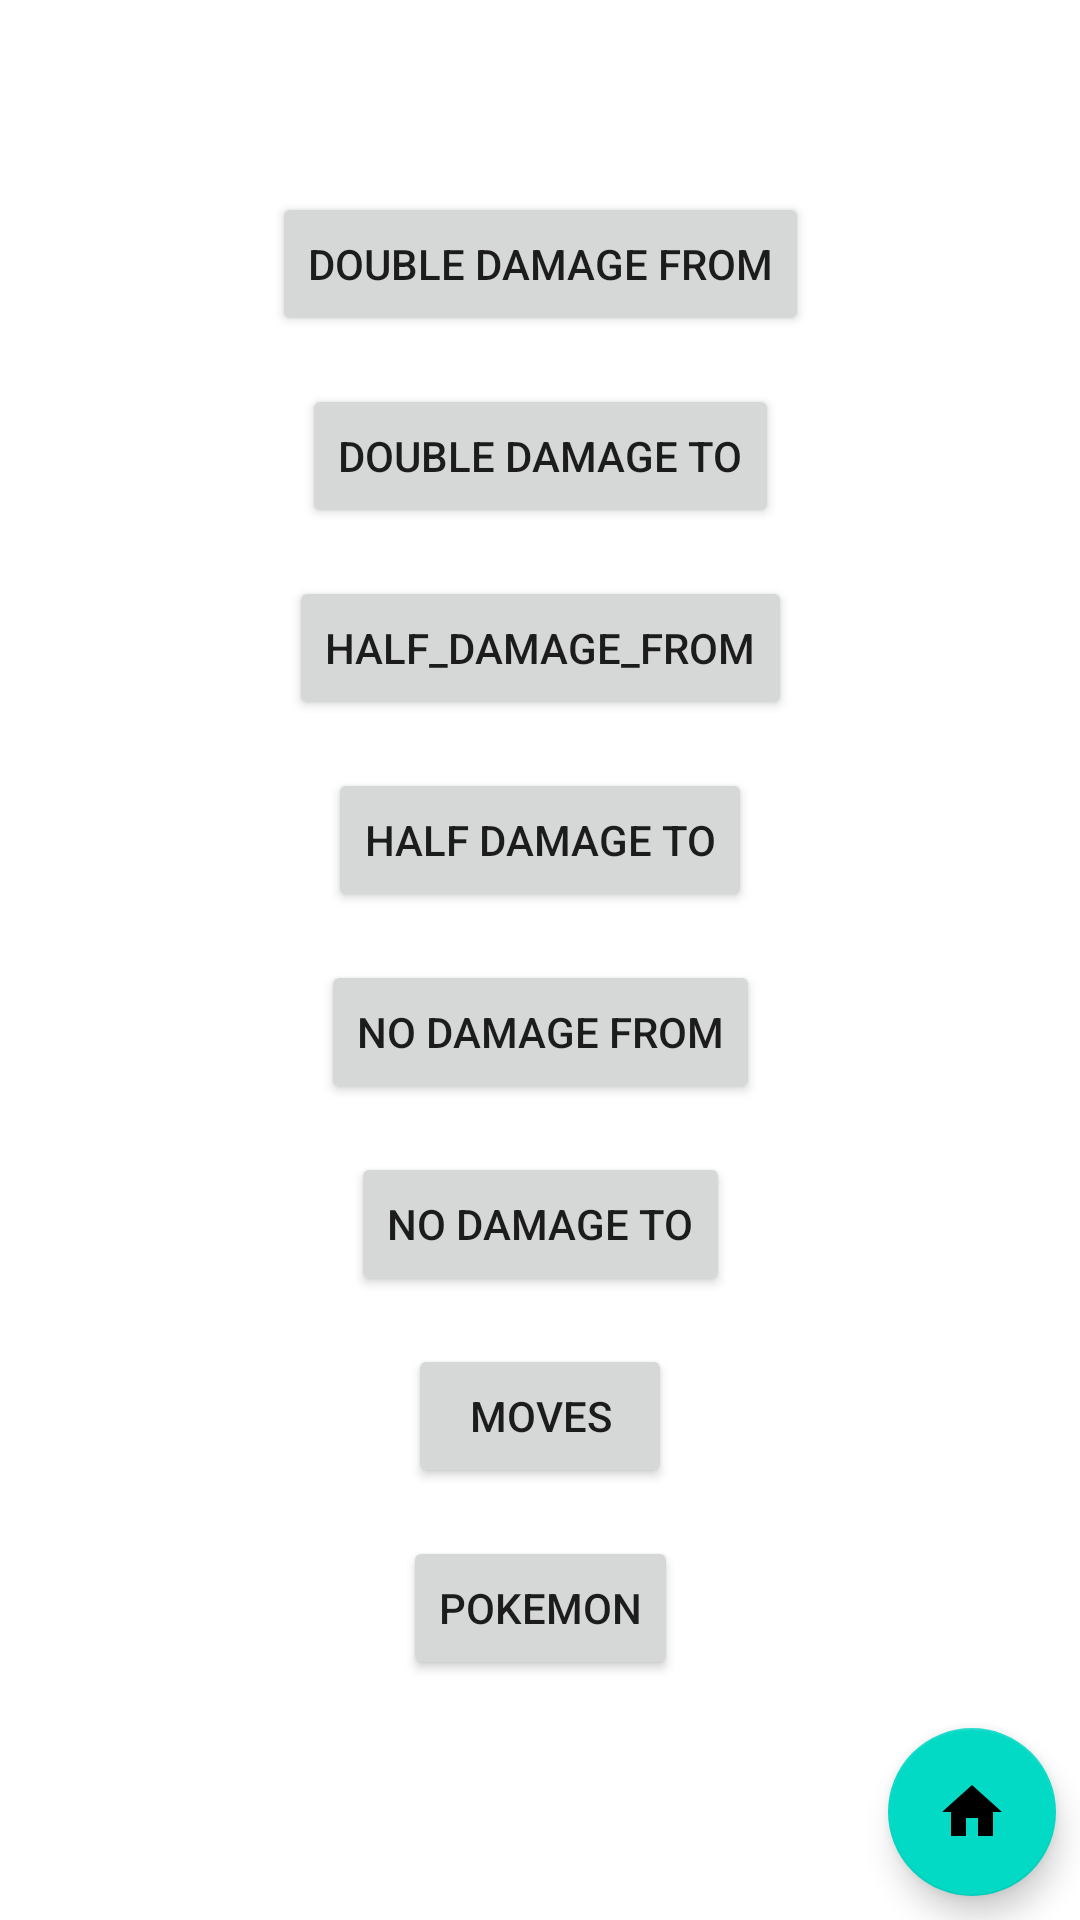

Locate icon controls on the screen. Image size 1080 × 1920, boxes as bbox=[x1, y1, x2, y2].
home: bbox=[888, 1728, 1056, 1896]
